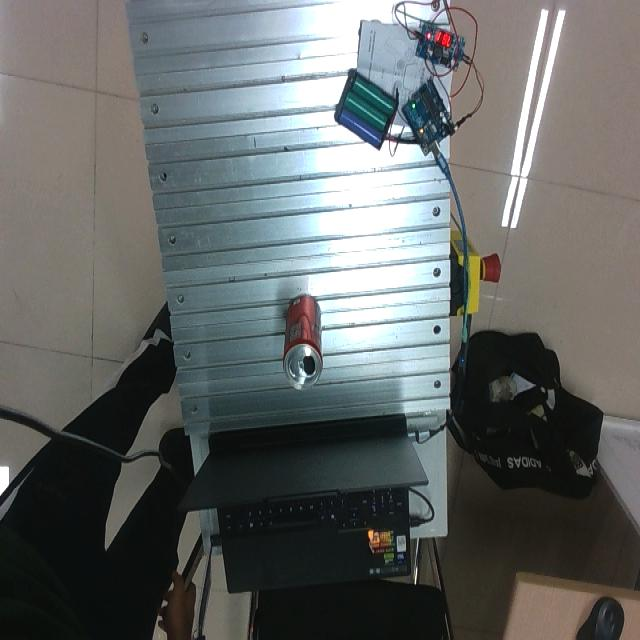coca: (283, 293, 324, 391)
